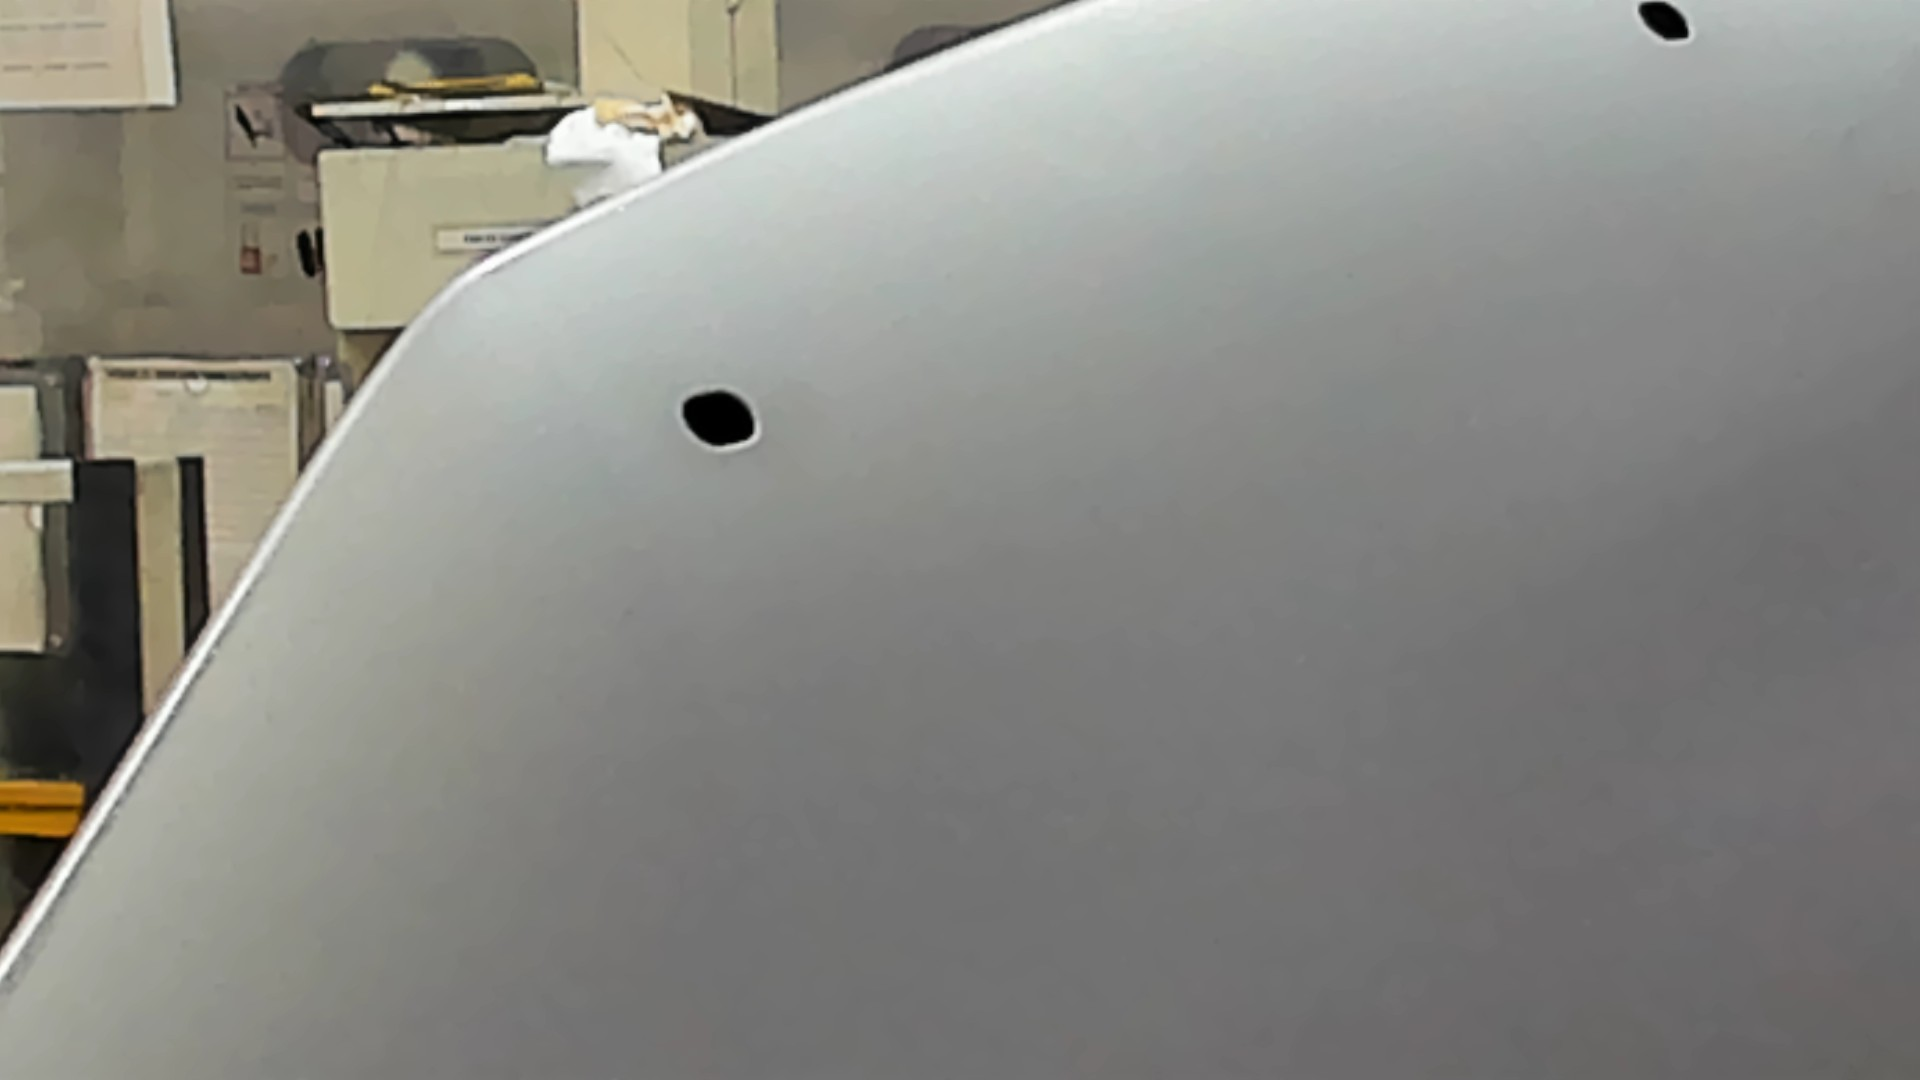Agujero: (673, 381, 767, 455), (1627, 1, 1697, 50)
